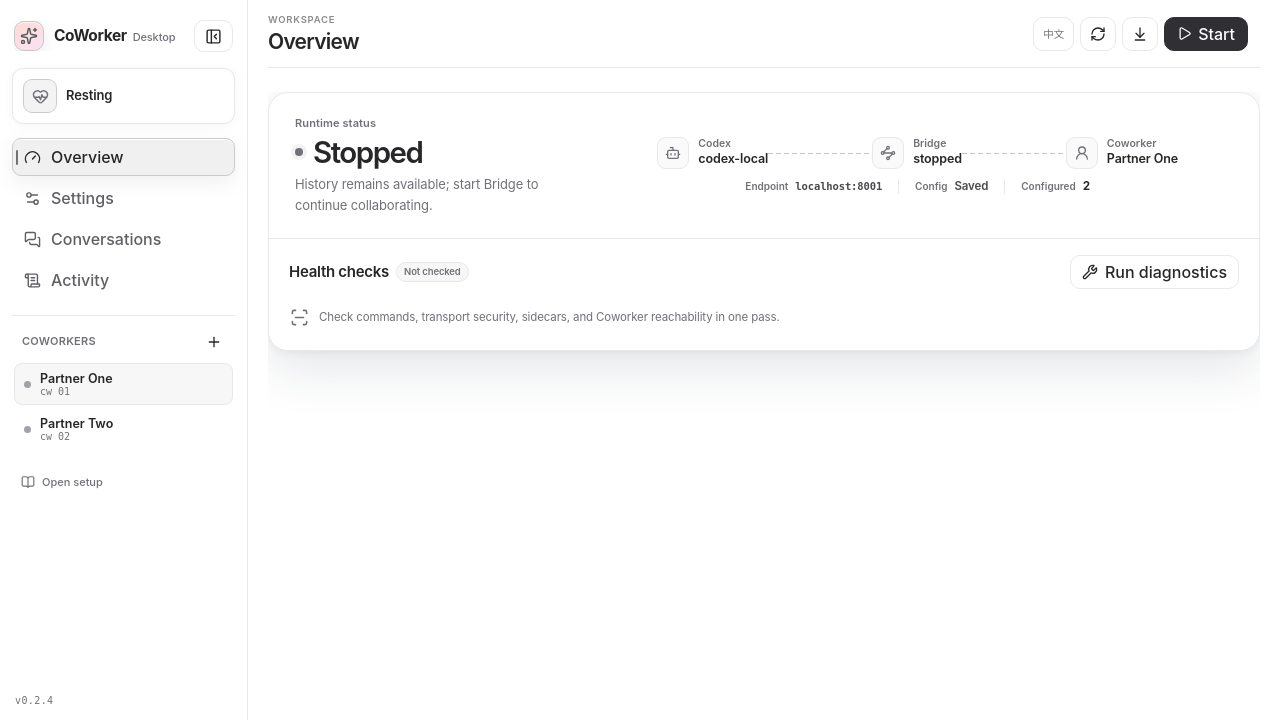
Scenario: App backend operation wiring › prevents concurrent diagnostic runs
The width and height of the screenshot is (1280, 720).
Check: the text "codex-local" is shown, box x1=698 y1=151 x2=768 y2=168
Click the button "Run diagnostics" at (1154, 272), box x1=1070 y1=255 x2=1239 y2=289
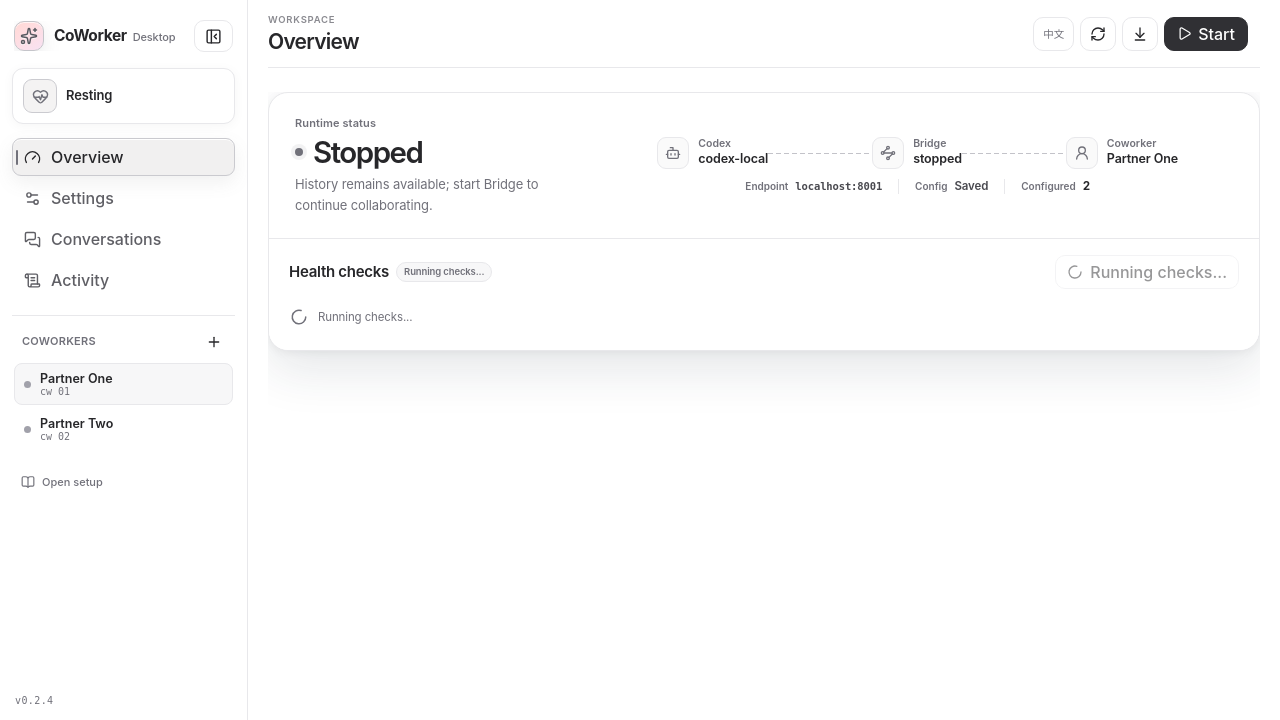
Check: the button with aria-label "Run diagnostics" is disabled
Click the button with aria-label "Run diagnostics" at (1147, 272), box x1=1055 y1=255 x2=1239 y2=289
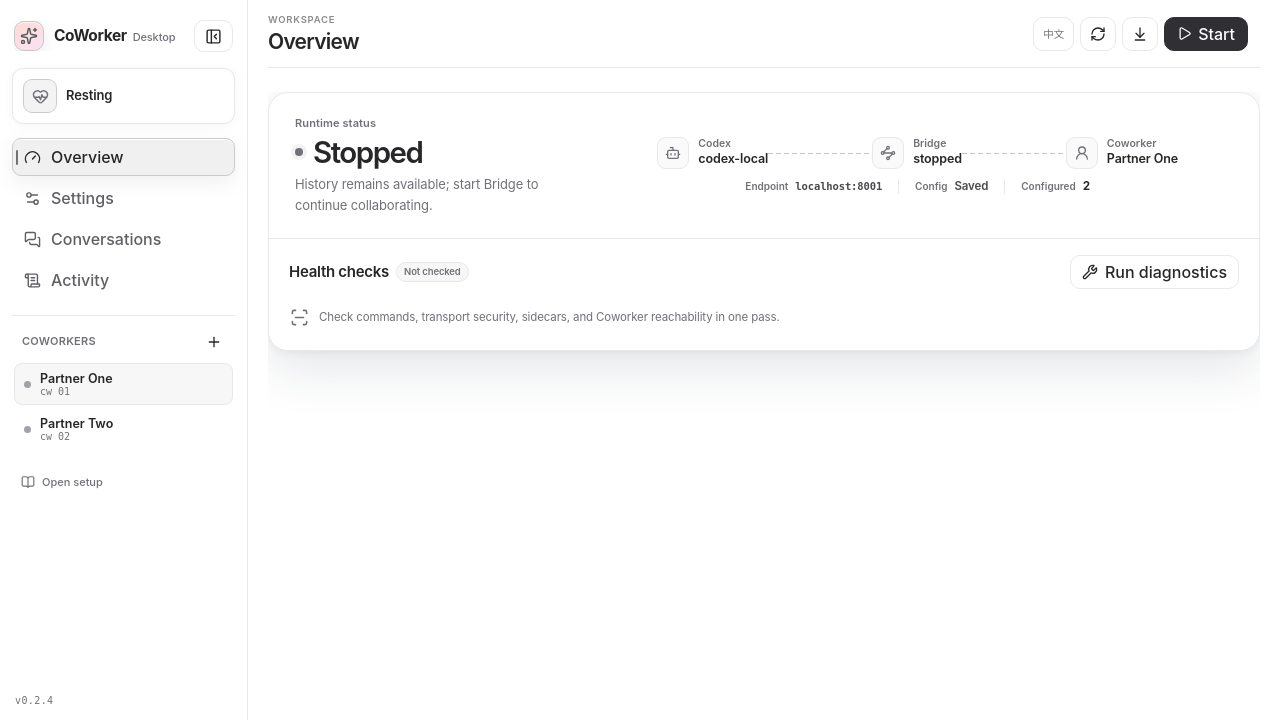
Check: the button "Run diagnostics" is enabled, box x1=1070 y1=255 x2=1239 y2=289
